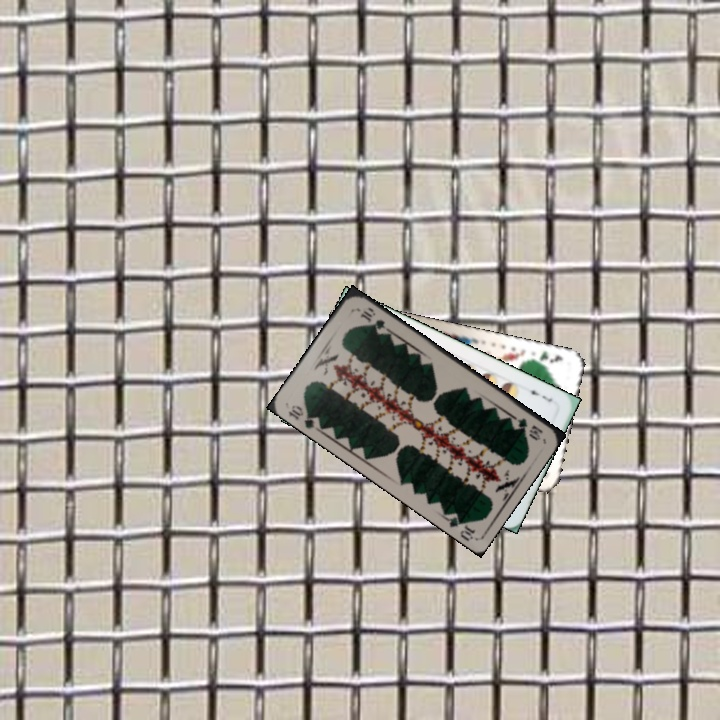E7: (523, 383, 555, 405)
G10: (507, 412, 546, 443), (284, 401, 323, 432)
GK: (528, 347, 565, 366)
